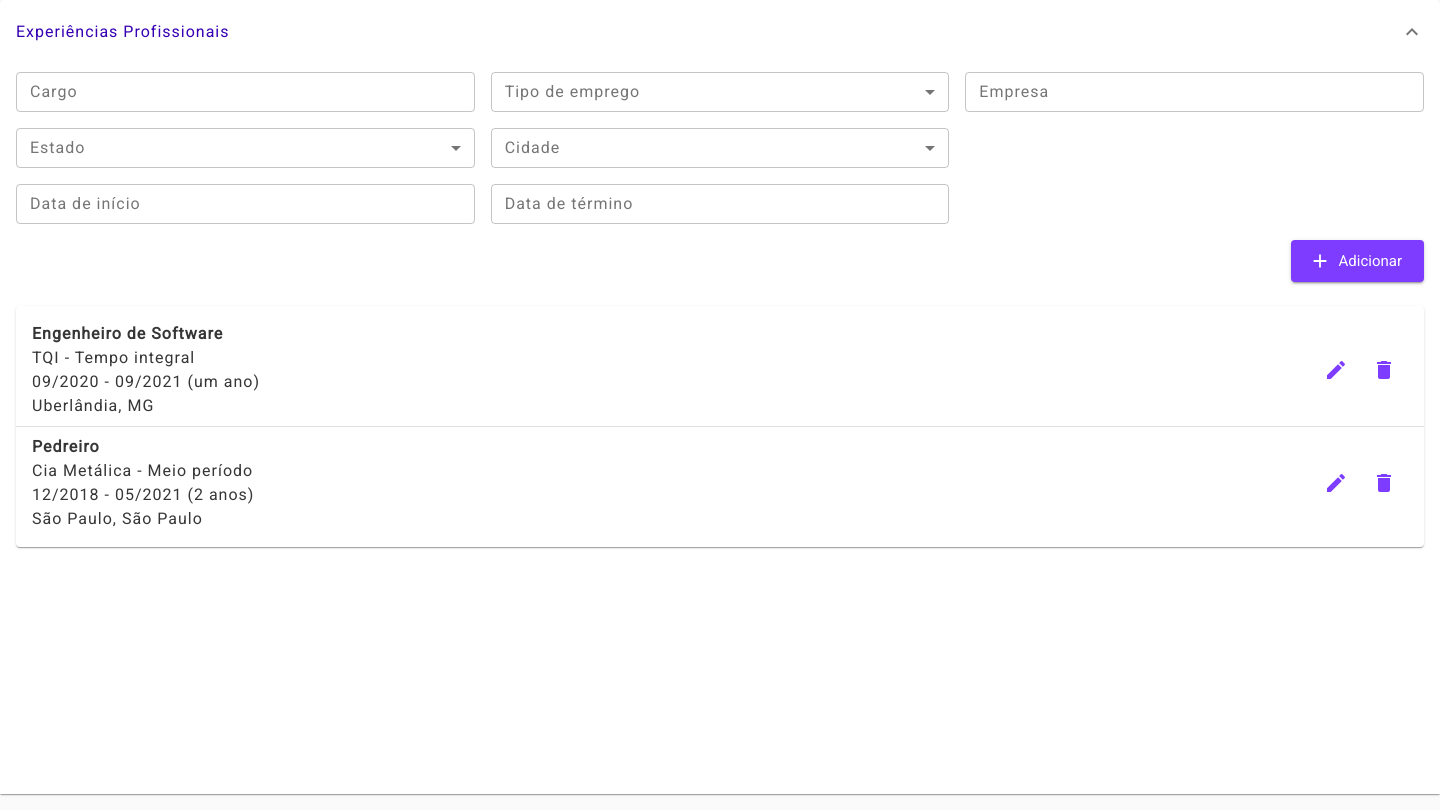
Test case: should be able to delete experience and refresh experiences
Click the button with test id "delete-experience-0". click: (1384, 370)
box: [1360, 346, 1408, 394]
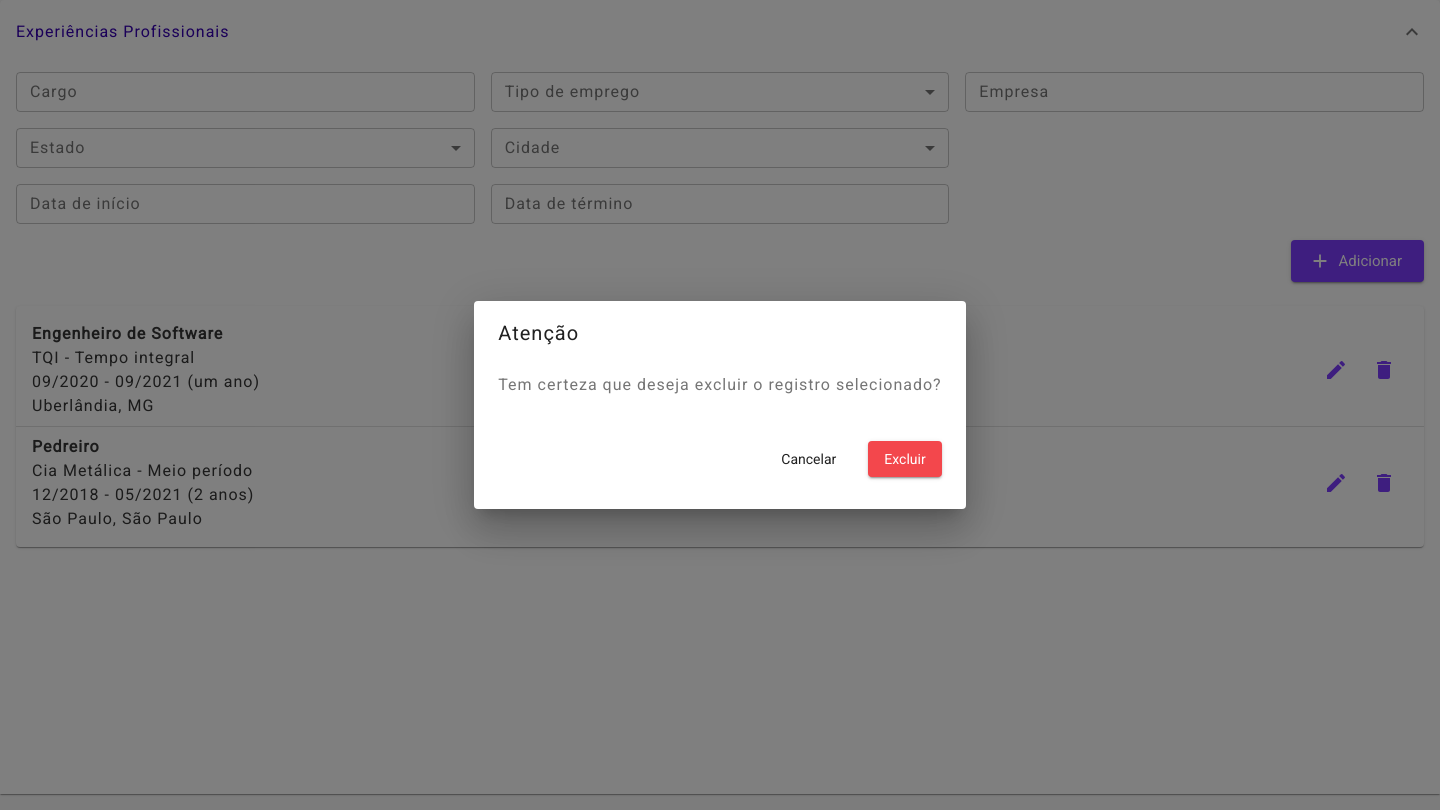
Click the button with test id "modal-confirm". click: (905, 459)
box: [868, 441, 942, 477]
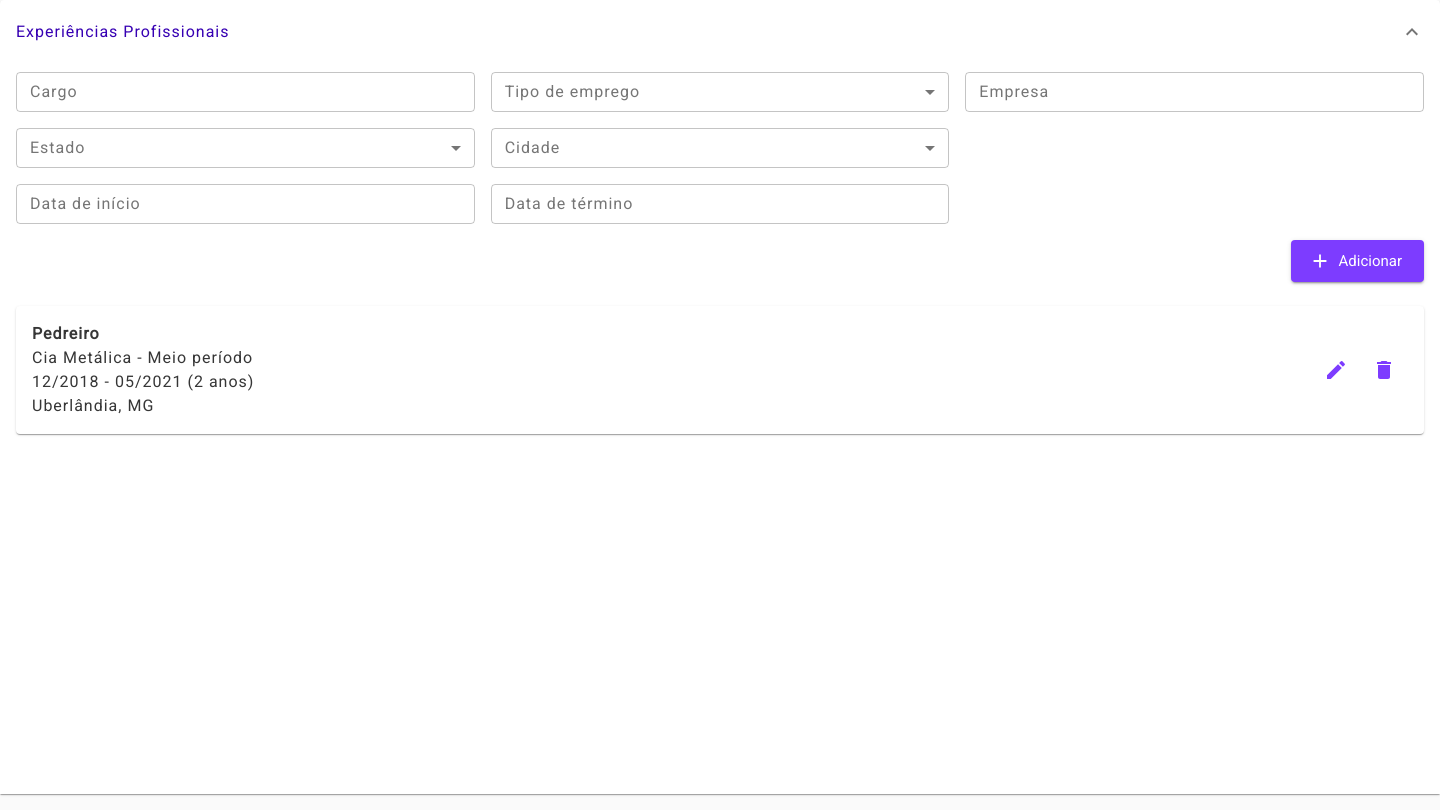
expect the text "Engenheiro de Software" is gone: met
